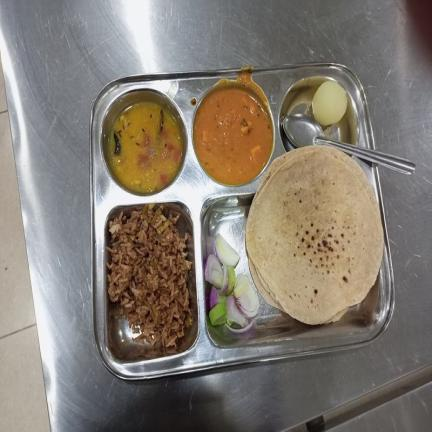Chana Dal: (107, 100, 184, 195)
Chhaina: (312, 79, 348, 126)
Dal: (108, 202, 192, 345)
Paneer: (193, 85, 273, 184)
Plate: (89, 63, 396, 379)
Roti: (244, 145, 384, 324)
Salad: (204, 233, 262, 335)
